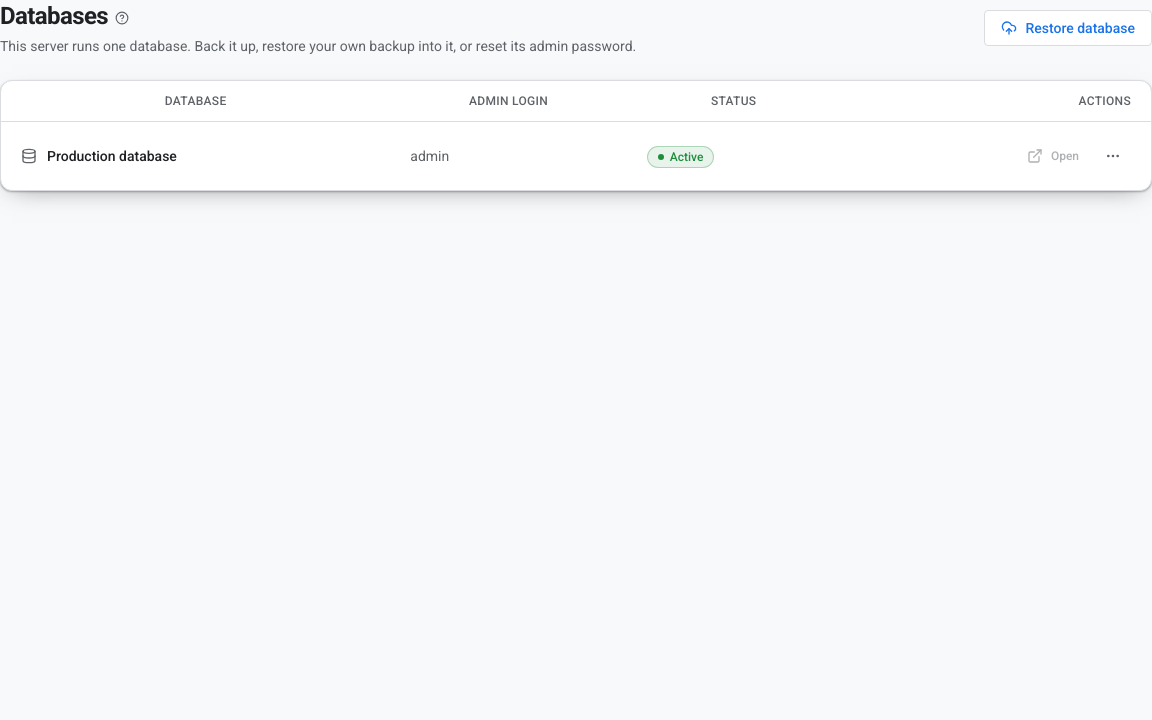
Databases › restores into the existing database only after its name is typed
expect the text "Production database" is shown: met, box [47,146,177,166]
Click the button "Restore database": click(1068, 28) [984,10,1151,46]
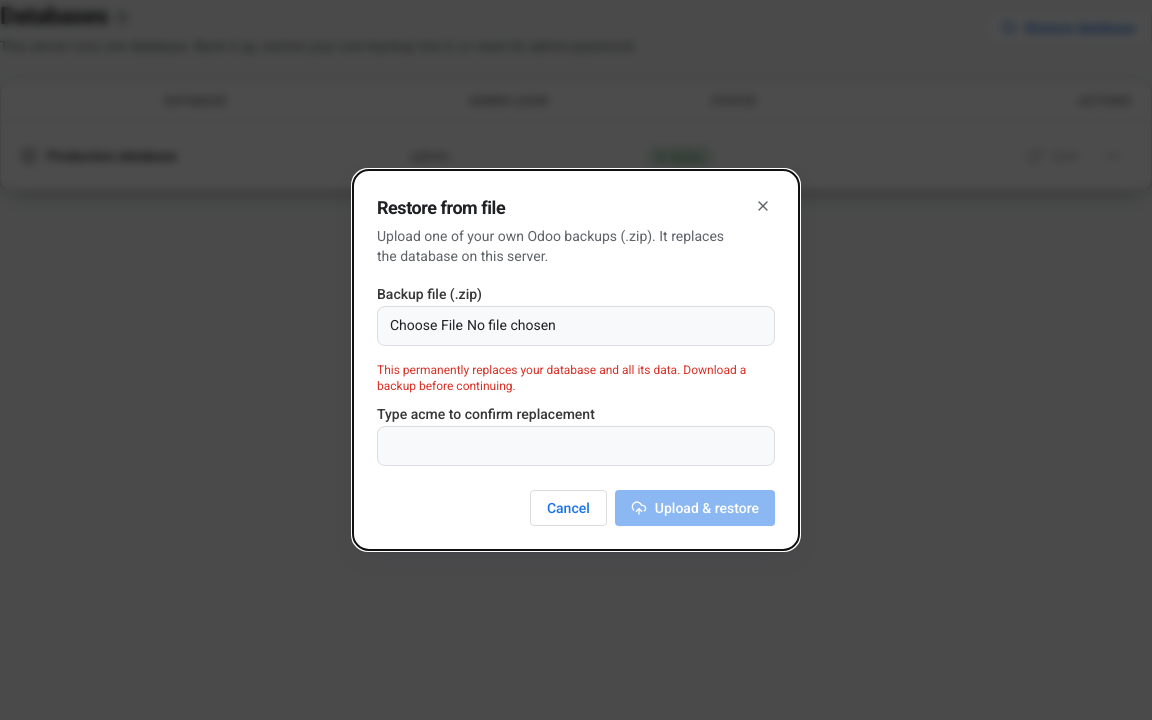
expect the field labelled "Type acme to confirm replacement" is shown: met, box [377,426,775,466]
expect the button "Upload & restore" is disabled: met, box [615,490,775,526]
